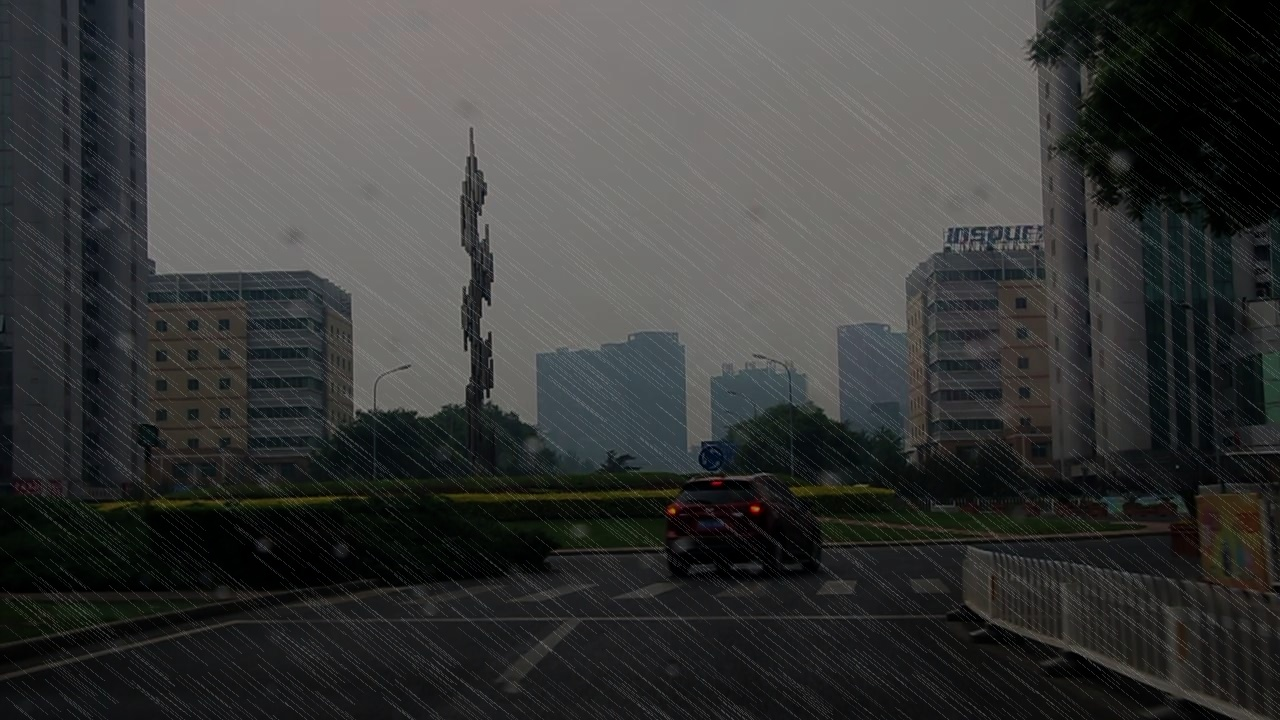Informative Signs: (697, 444, 725, 473)
